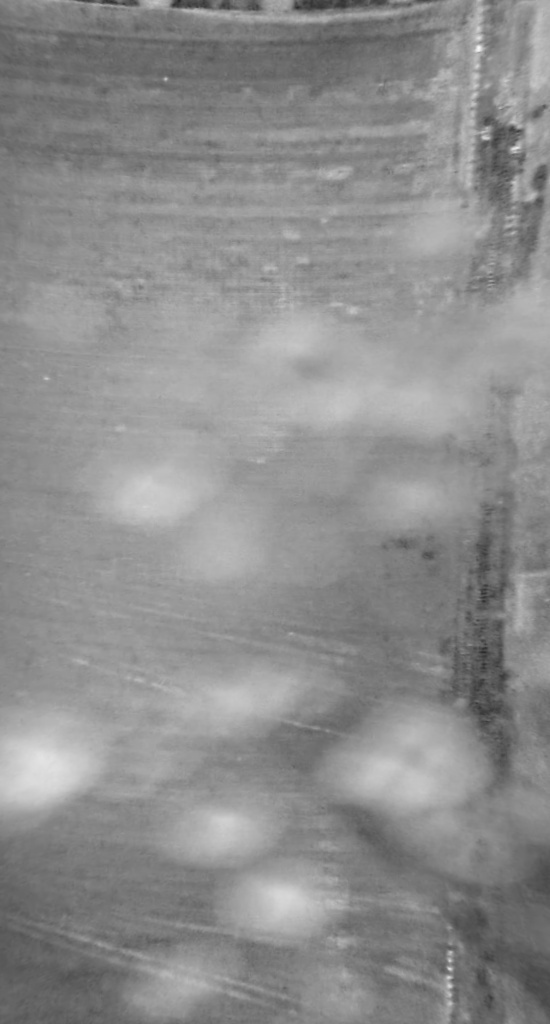splice: (445, 1, 542, 1022)
